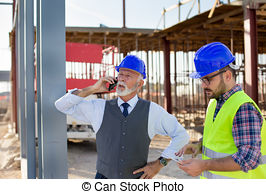Helmet: (190, 41, 240, 79), (114, 53, 149, 79)
